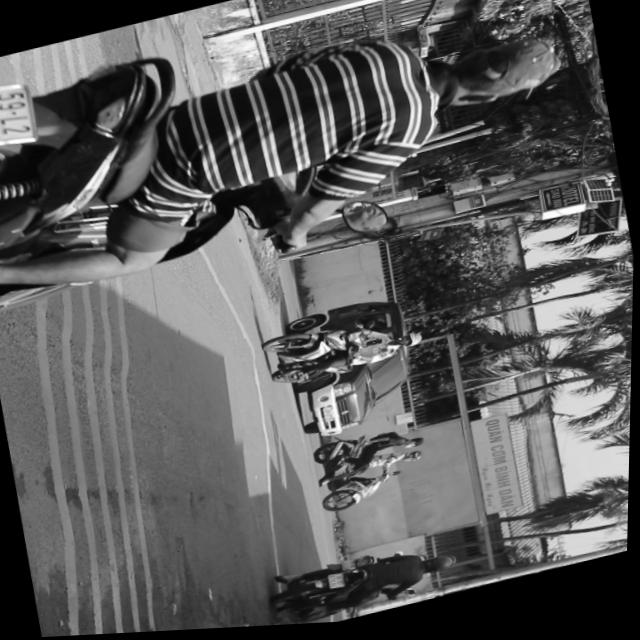helmet: (427, 555, 460, 579)
licenseplate: (0, 0, 586, 329), (270, 535, 464, 629)
motorcyclist: (428, 29, 564, 123)
nohelmet: (0, 72, 41, 152), (332, 574, 350, 592)
